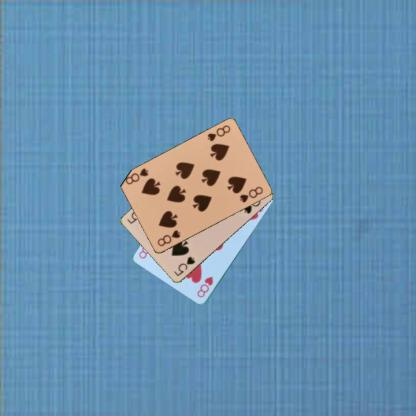5s: (171, 254, 196, 277)
8h: (195, 274, 214, 299)
8s: (204, 122, 232, 142), (155, 228, 181, 248)
